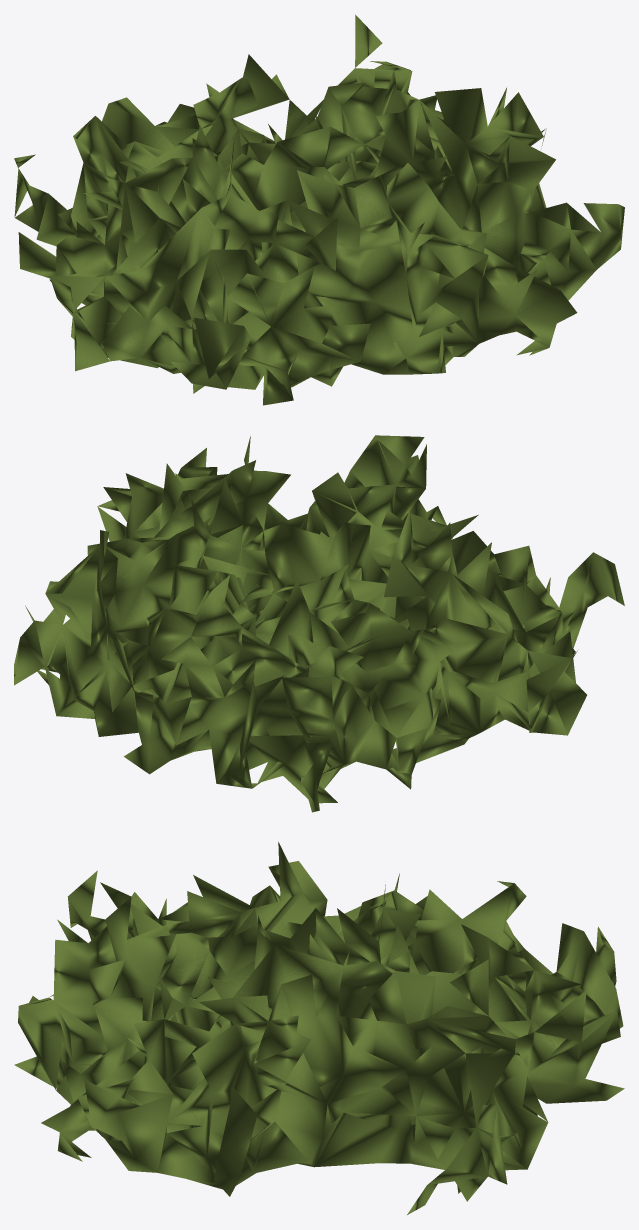
File: watershrub_lod1.glb
The picture shows the model from 3 angles, top to bottom: view 1: azimuth 30°, elevation 25°; view 2: azimuth 150°, elevation 25°; view 3: azimuth 270°, elevation 25°; orthographic projection. The views are drawn at different scales.
Bounding box in the file's own units: 1.7 × 0.6779 × 1.68.
1 material, 1 textured.
